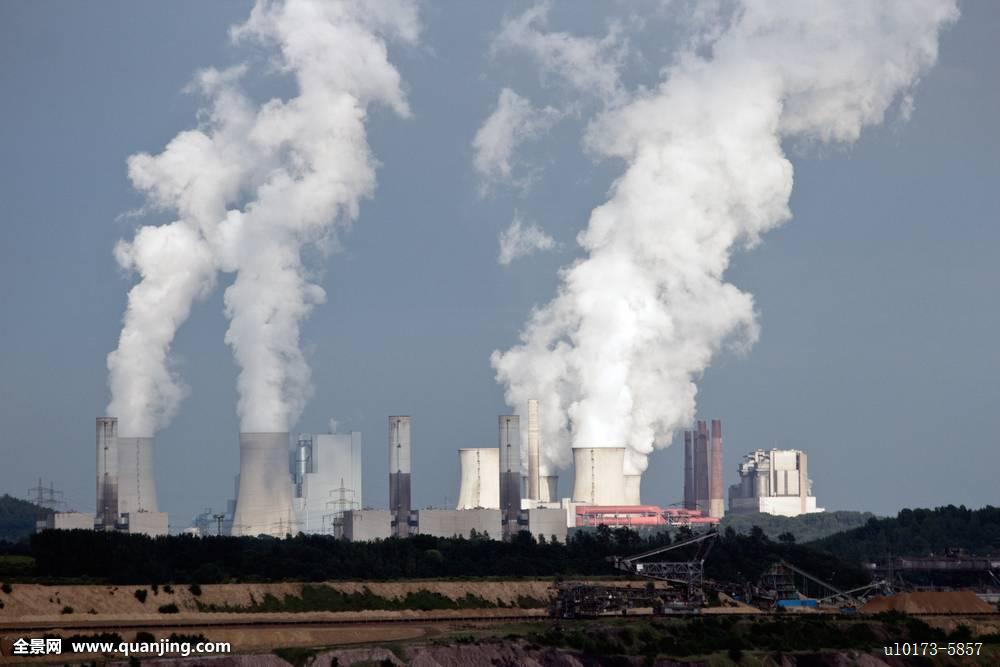dust: (574, 6, 931, 473), (200, 8, 410, 450), (79, 130, 223, 449), (490, 250, 594, 487)
